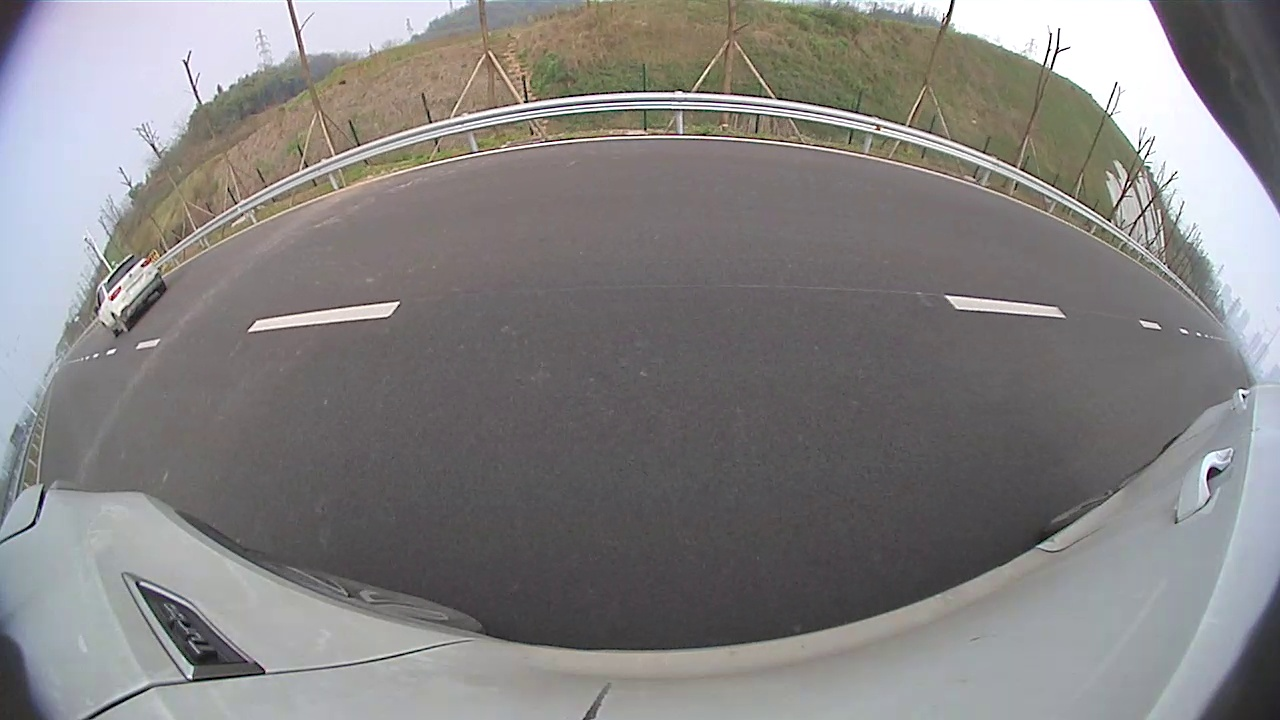car: (94, 254, 167, 338)
rear: (112, 313, 131, 334)
